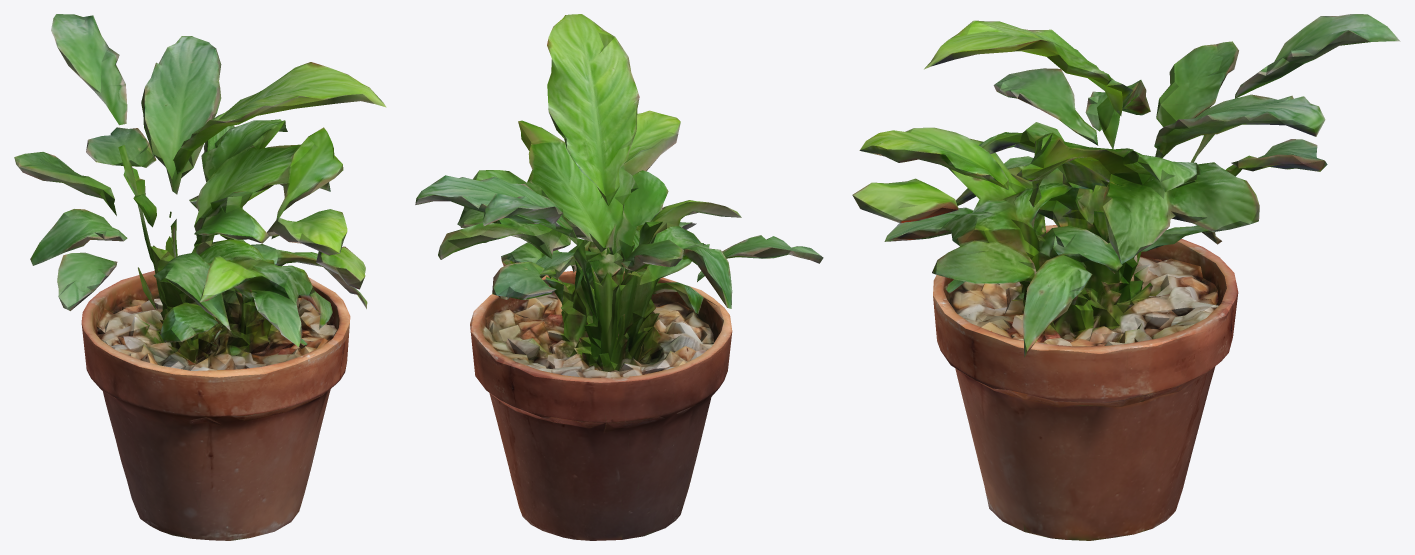
The model's file is plant.glb.
3 views of the same model, side by side, from view 1: azimuth 30°, elevation 25°; view 2: azimuth 150°, elevation 25°; view 3: azimuth 270°, elevation 25° (orthographic). The views are drawn at different scales.
Visible parts, largest first — view 1: PEACE_LILLY_5K; view 2: PEACE_LILLY_5K; view 3: PEACE_LILLY_5K.
Boxes of the visible parts, bbox=[...] form: PEACE_LILLY_5K: bbox=[14, 14, 386, 540]; PEACE_LILLY_5K: bbox=[415, 14, 823, 540]; PEACE_LILLY_5K: bbox=[852, 14, 1400, 540].
Size of the model in its own units: 0.2948 by 0.3855 by 0.3812.
1 material, 1 textured.
